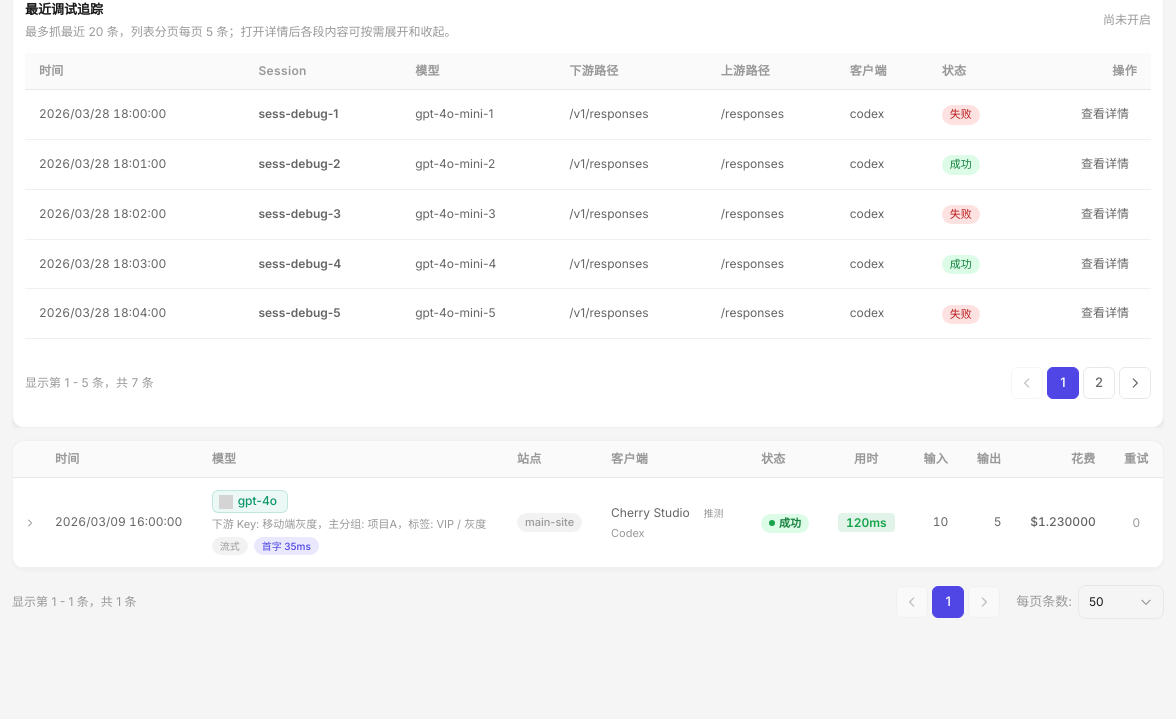
Test: ProxyLogs server-driven page › paginates debug traces in groups of five instead of rendering the whole trace list at once
This screenshot has width=1176, height=719.
(page scrolled)
Click the button named "调试追踪下一页" at {"x": 1135, "y": 383}, box [1119,367,1151,399]
(page scrolled)
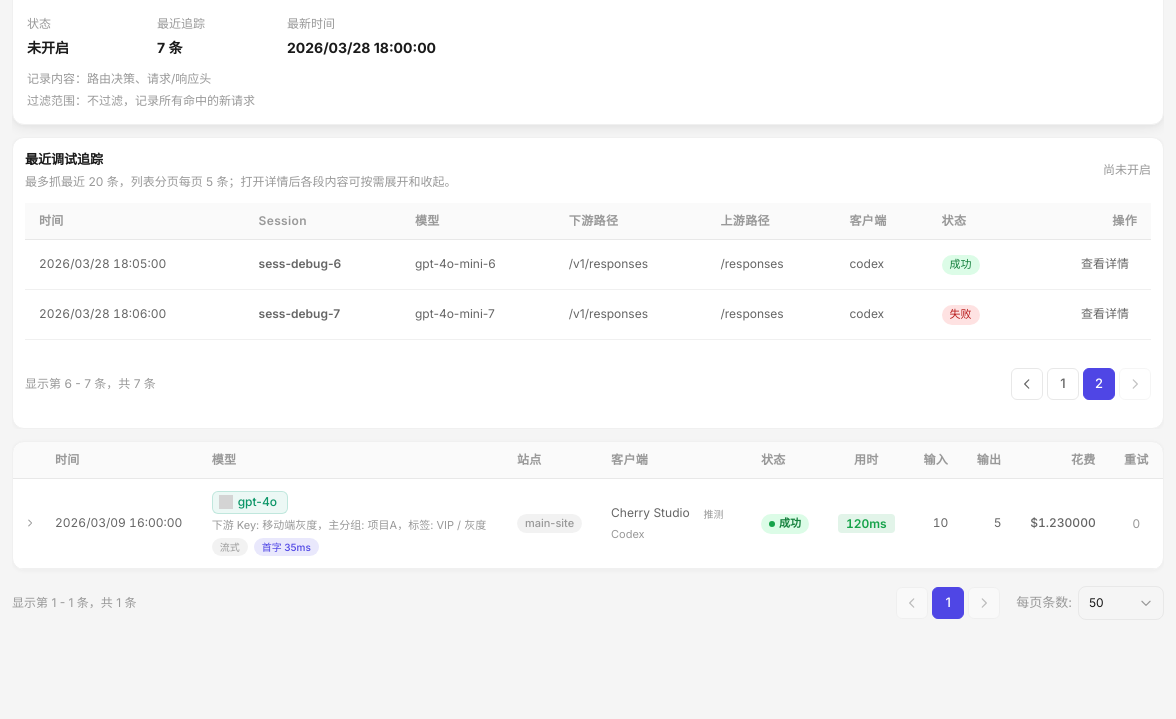
Expected: the text "显示第 6 - 7 条，共 7 条" is shown, [25,375,156,393]
Expected: the text "sess-debug-6" is shown, [244,240,401,290]
Expected: the text "sess-debug-1" is gone
